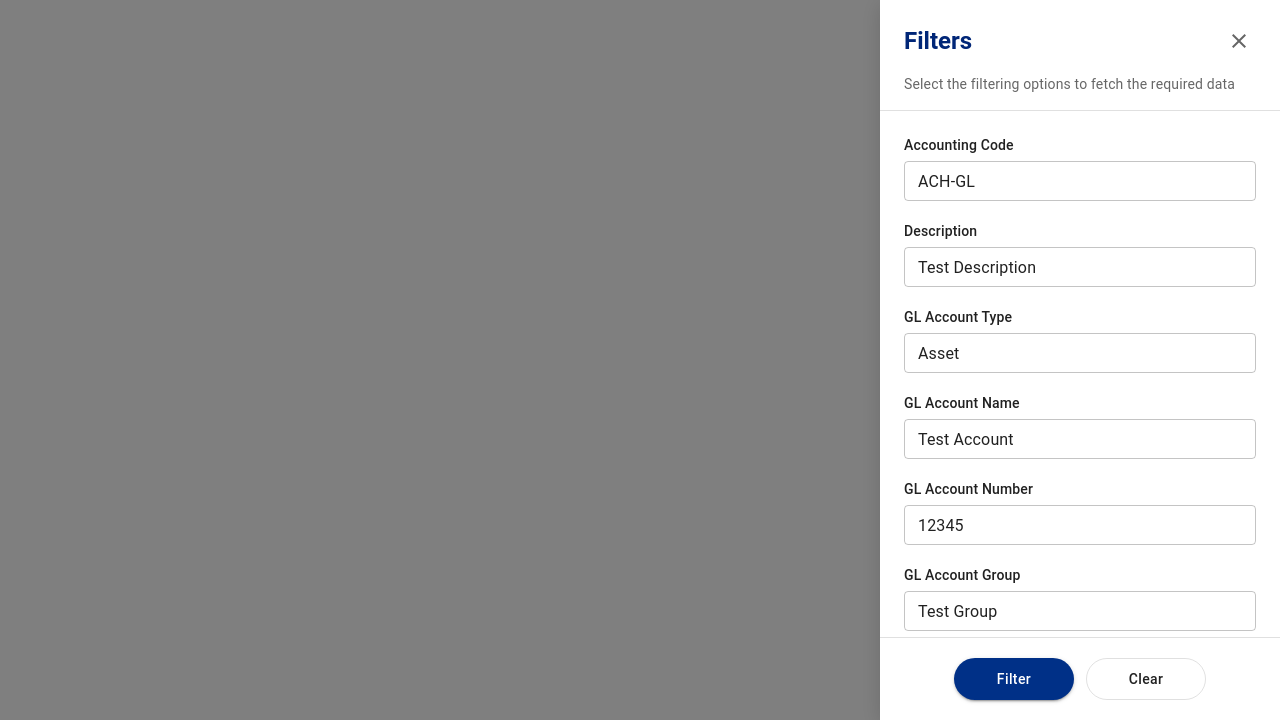
Scenario: FilterDialog › clears all filter values when Clear button is clicked
Click the button "Clear" at [1146, 679], box [1086,658,1206,700]
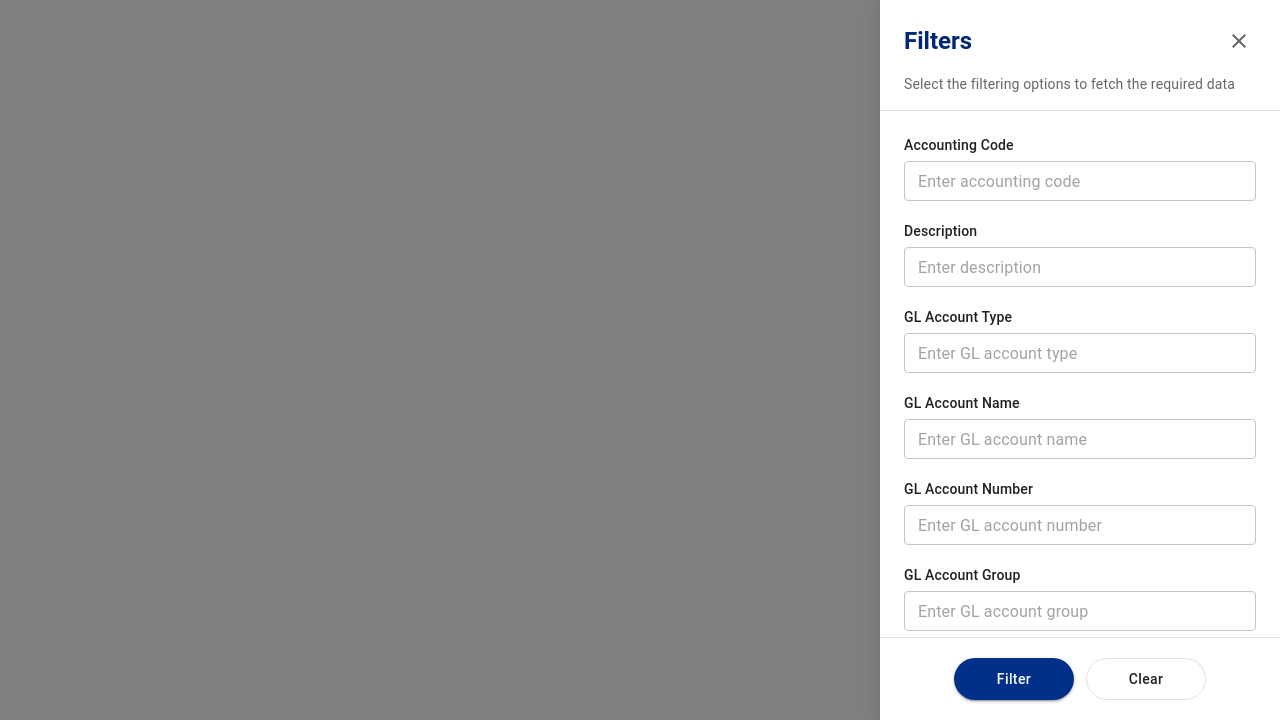
expect the field with placeholder "Enter accounting code" is empty: met, box [904,161,1256,201]
expect the field with placeholder "Enter description" is empty: met, box [904,247,1256,287]
expect the field with placeholder "Enter GL account type" is empty: met, box [904,333,1256,373]
